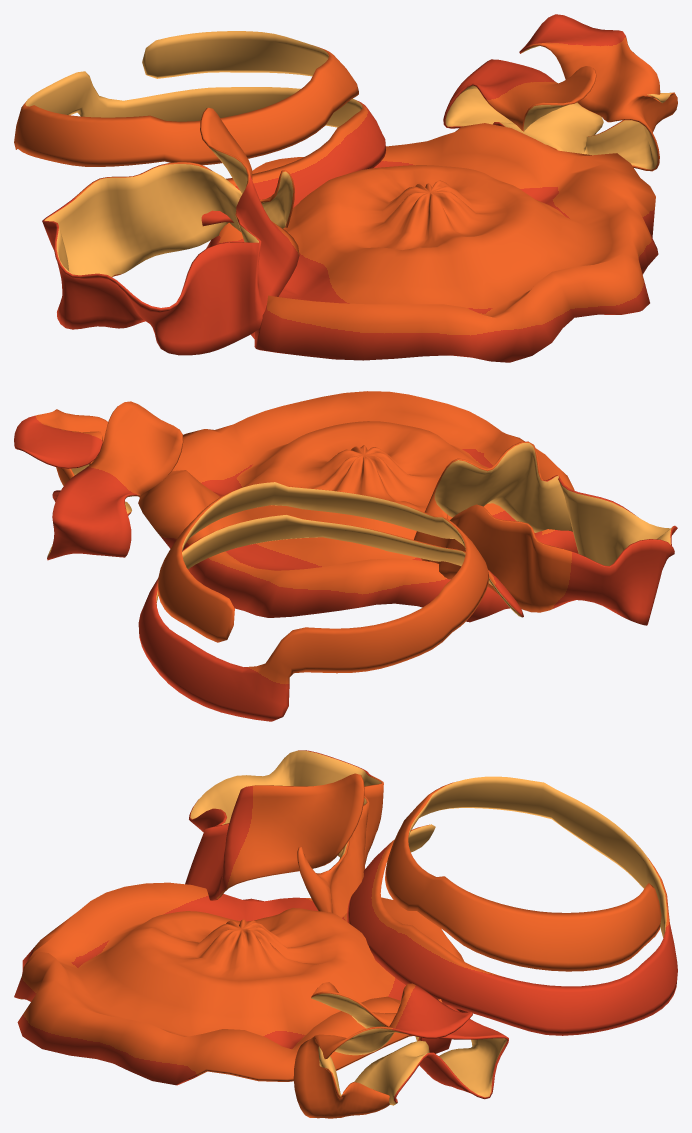
File: cascaraNaranja.fbx
The picture shows the model from 3 angles, top to bottom: view 1: azimuth 30°, elevation 25°; view 2: azimuth 150°, elevation 25°; view 3: azimuth 270°, elevation 25°; orthographic projection. The views are drawn at different scales.
Visible parts, largest first — view 1: cascaraNaranja; view 2: cascaraNaranja; view 3: cascaraNaranja.
Boxes of the visible parts, x1,y1,x2,y2 form: cascaraNaranja: [14, 14, 677, 362]; cascaraNaranja: [14, 391, 677, 721]; cascaraNaranja: [14, 750, 677, 1118].
Bounding box in the file's own units: 59.36 × 15.52 × 53.93.
